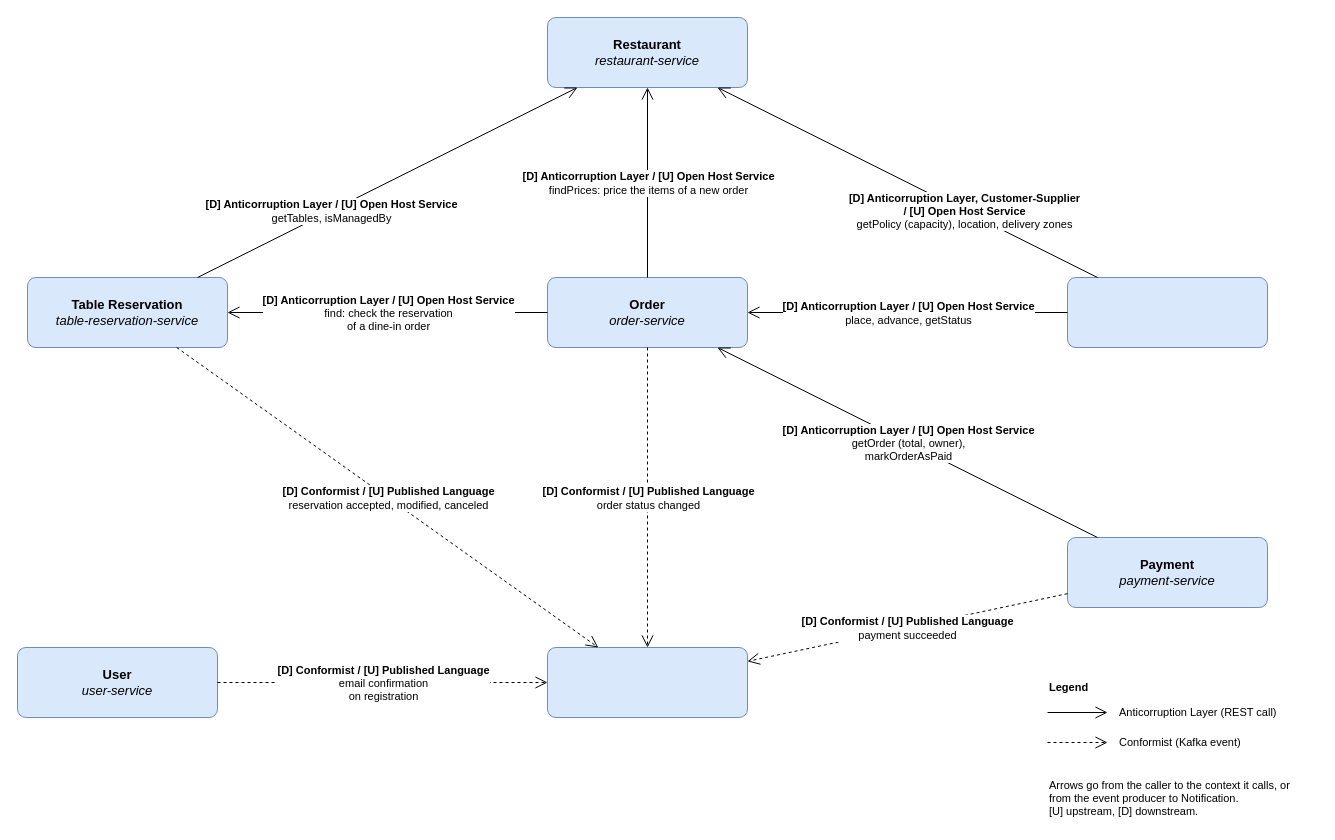
Some shapes in this 1335 by 840 pixel diagram are drawn without their labels. Each missing label, with the box of its shape:
Notification notification-service: (546, 646, 748, 718)
Schedule + Delivery scheduler-service: (1066, 276, 1268, 348)
